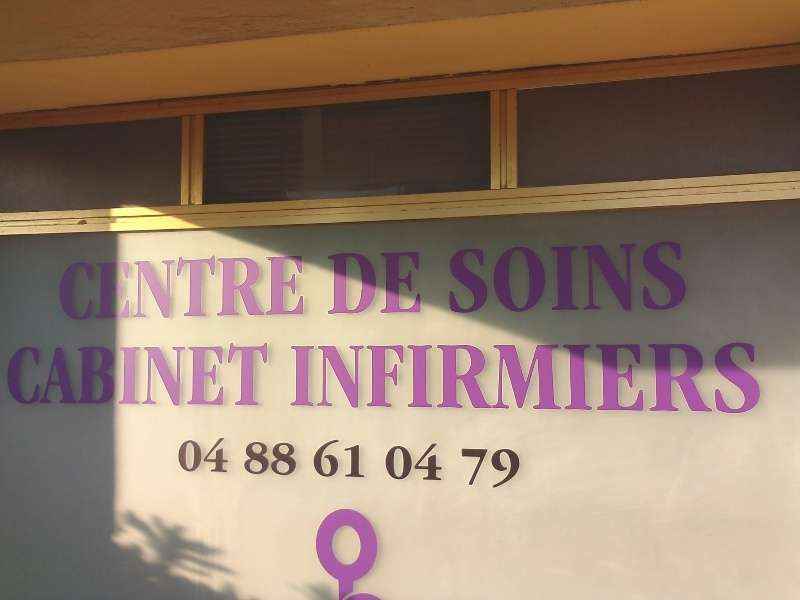text: (673, 241, 689, 314), (289, 340, 304, 415), (305, 340, 320, 415), (321, 340, 336, 415), (337, 340, 352, 415), (353, 340, 368, 415), (369, 340, 384, 415), (385, 340, 400, 415), (401, 340, 416, 415), (417, 340, 432, 415), (433, 340, 448, 415), (449, 340, 464, 415), (465, 340, 480, 415), (481, 340, 496, 415), (497, 340, 512, 415), (513, 340, 528, 415), (529, 340, 544, 415), (545, 340, 560, 415), (561, 340, 576, 415), (577, 340, 592, 415), (593, 340, 608, 415), (609, 340, 624, 415), (625, 340, 640, 415), (641, 340, 656, 415), (657, 340, 672, 415), (673, 340, 688, 415), (689, 340, 704, 415), (705, 340, 720, 415), (721, 340, 736, 415), (737, 340, 752, 415), (753, 340, 768, 415), (449, 241, 464, 314), (465, 241, 480, 314), (481, 241, 496, 314), (497, 241, 512, 314), (513, 241, 528, 314), (529, 241, 544, 314), (545, 241, 560, 314), (561, 241, 576, 314), (577, 241, 592, 314), (593, 241, 608, 314), (609, 241, 624, 314), (625, 241, 640, 314), (641, 241, 656, 314), (657, 241, 672, 314), (65, 253, 80, 321), (81, 253, 96, 321), (97, 253, 112, 321), (113, 253, 128, 321), (129, 253, 144, 321), (145, 253, 160, 321), (161, 253, 176, 321), (177, 253, 192, 321), (193, 253, 208, 321), (209, 253, 224, 321), (225, 253, 240, 321), (241, 253, 256, 321), (257, 253, 272, 321), (273, 253, 288, 321), (289, 253, 304, 321), (17, 341, 32, 407), (33, 341, 48, 407), (49, 341, 64, 407), (65, 341, 80, 407), (81, 341, 96, 407), (97, 341, 112, 407), (113, 341, 128, 407), (129, 341, 144, 407), (145, 341, 160, 407), (161, 341, 176, 407), (177, 341, 192, 407), (193, 341, 208, 407), (209, 341, 224, 407), (225, 341, 240, 407), (241, 341, 256, 407), (337, 251, 352, 315), (353, 251, 368, 315), (369, 251, 384, 315), (385, 251, 400, 315), (401, 251, 416, 315), (257, 341, 271, 407), (321, 437, 336, 483), (337, 437, 352, 483), (353, 437, 368, 483), (465, 444, 480, 490), (481, 444, 496, 490), (497, 444, 512, 490), (385, 440, 400, 485), (401, 440, 416, 485), (417, 440, 432, 485), (177, 434, 192, 478), (193, 434, 208, 478), (209, 434, 224, 478), (326, 251, 336, 315), (257, 438, 272, 478), (273, 438, 288, 478), (8, 341, 16, 407), (243, 438, 256, 478), (433, 440, 444, 485), (57, 253, 64, 321), (310, 437, 320, 483), (513, 444, 523, 490), (417, 251, 423, 315), (456, 444, 464, 490), (289, 438, 297, 478), (225, 434, 231, 478), (285, 340, 288, 415), (305, 253, 308, 321), (382, 440, 384, 485), (447, 241, 448, 314)
